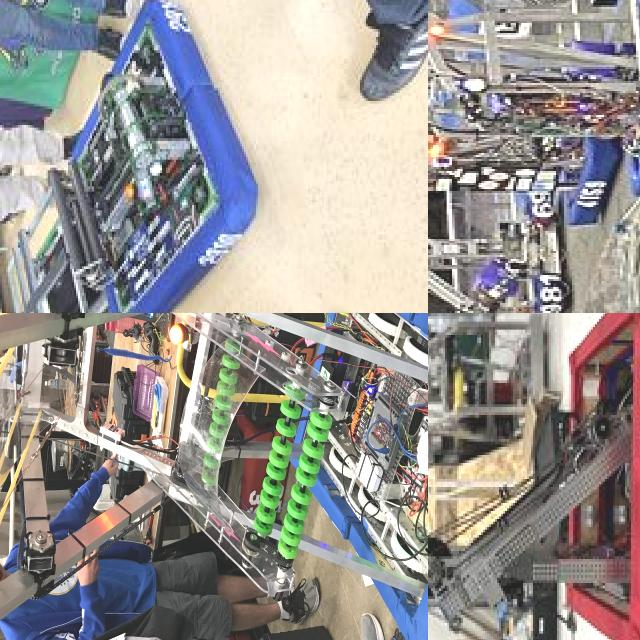FRC-Robots: (12, 313, 428, 640), (0, 0, 287, 313), (428, 313, 640, 640), (428, 0, 640, 164), (428, 95, 614, 238), (428, 196, 583, 313)
